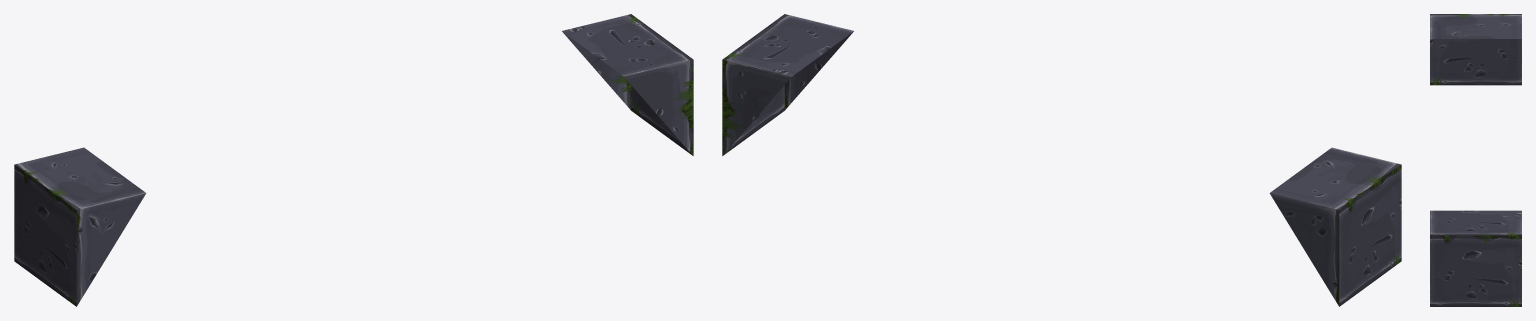
Rendered from MOD_WallCover_01_M_Gateway.fbx.
The picture shows the model from 3 angles, left to right: view 1: azimuth 30°, elevation 25°; view 2: azimuth 150°, elevation 25°; view 3: azimuth 270°, elevation 25°; orthographic projection. The views are drawn at different scales.
Visible parts, largest first — view 1: MOD_WallCover_01_M_Gateway; view 2: MOD_WallCover_01_M_Gateway; view 3: MOD_WallCover_01_M_Gateway.
Part boxes in pixels (x1,y1,x2,y2): MOD_WallCover_01_M_Gateway: (14, 14, 693, 306); MOD_WallCover_01_M_Gateway: (722, 14, 1401, 306); MOD_WallCover_01_M_Gateway: (1430, 14, 1521, 306).
Size of the model in its own units: 400 by 60 by 70.
